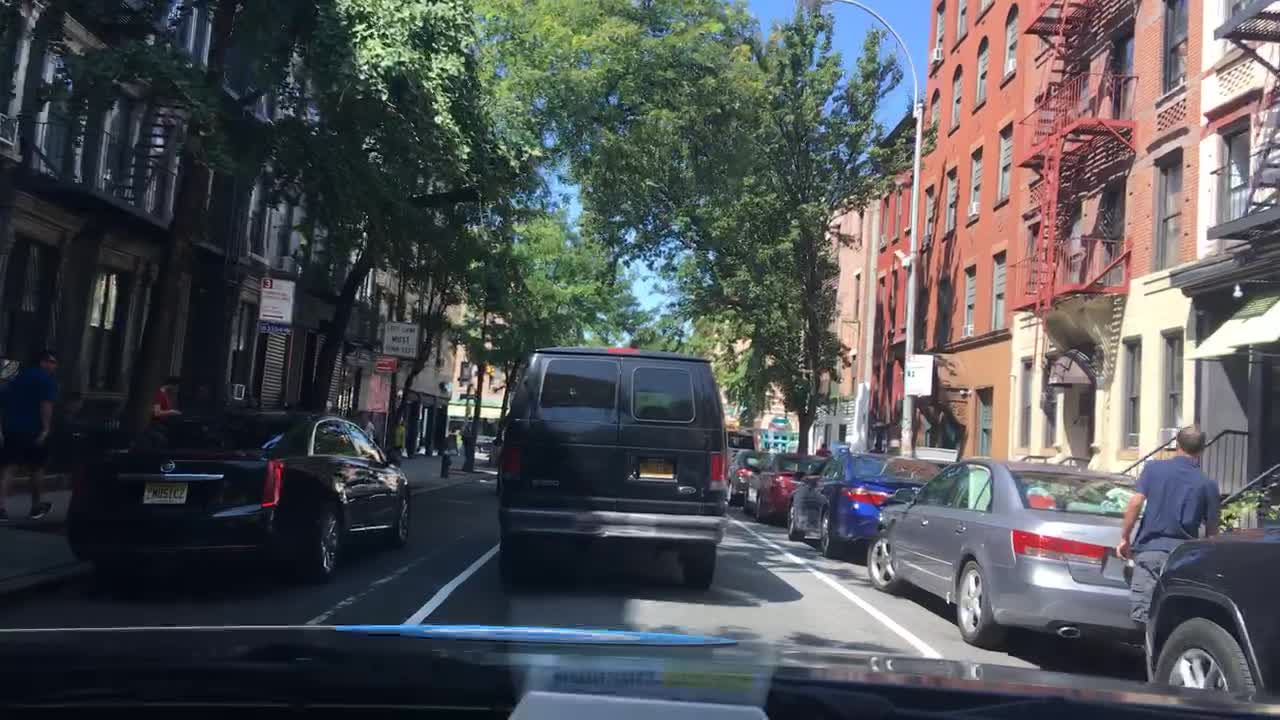car: (57, 401, 415, 586), (491, 341, 732, 608), (865, 453, 1147, 652), (1142, 519, 1279, 704), (783, 446, 945, 561), (739, 453, 827, 525), (724, 446, 771, 507), (724, 428, 761, 475), (474, 433, 499, 455)
person: (1113, 422, 1223, 623), (0, 345, 60, 525), (148, 376, 183, 417), (356, 410, 379, 446), (458, 415, 475, 461)
traffic light: (484, 365, 497, 378)
traffic sign: (259, 277, 295, 336), (381, 321, 418, 358), (376, 355, 398, 374), (457, 393, 475, 402)
